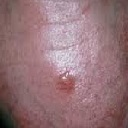Carcinoma: (56, 69, 79, 93)
